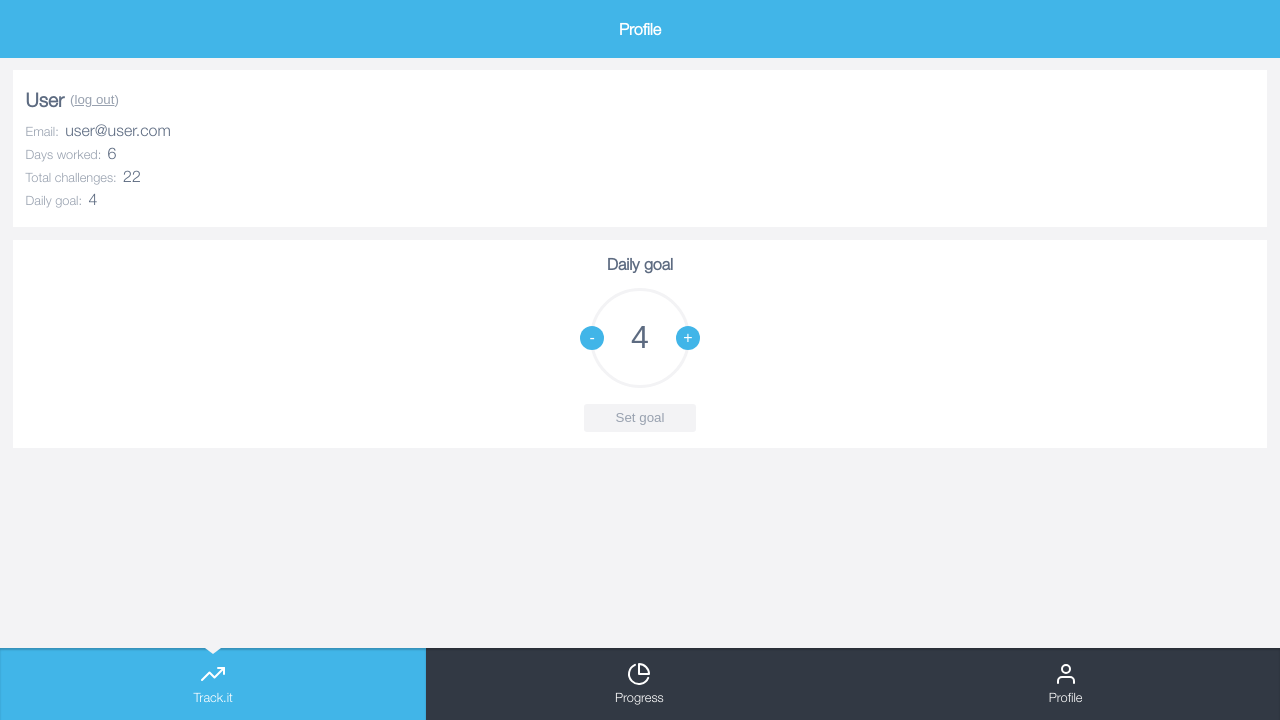
Progress Page › increases daily goal by pressing +
The width and height of the screenshot is (1280, 720).
Click the button "+".
click(688, 338)  # box [676,326,700,350]
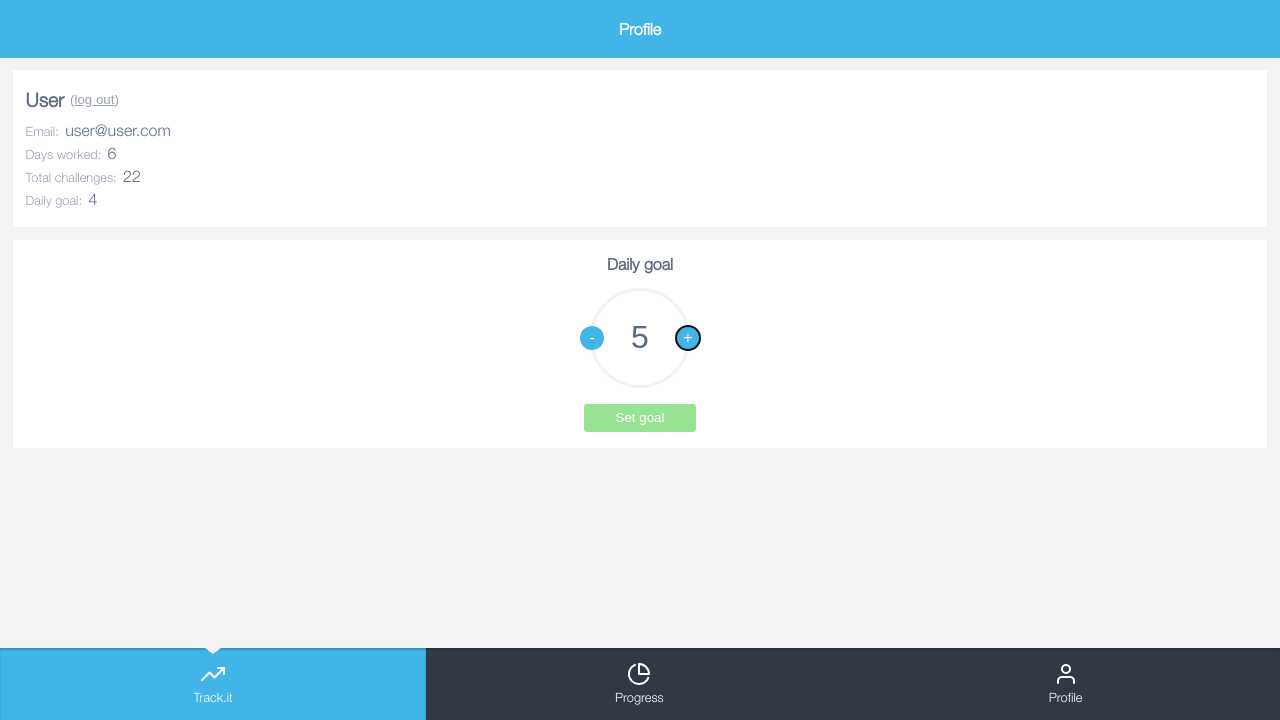
Click the button "+".
click(688, 338)  # box [676,326,700,350]
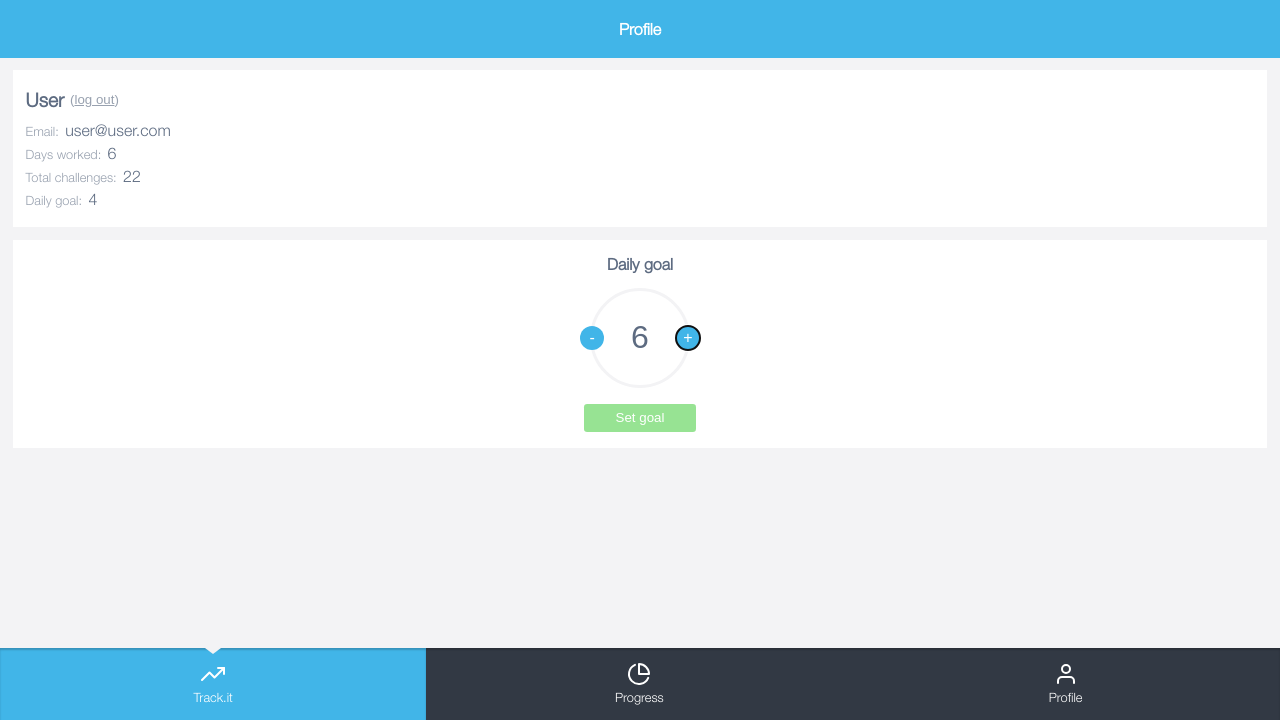
Click the button "+".
click(688, 338)  # box [676,326,700,350]
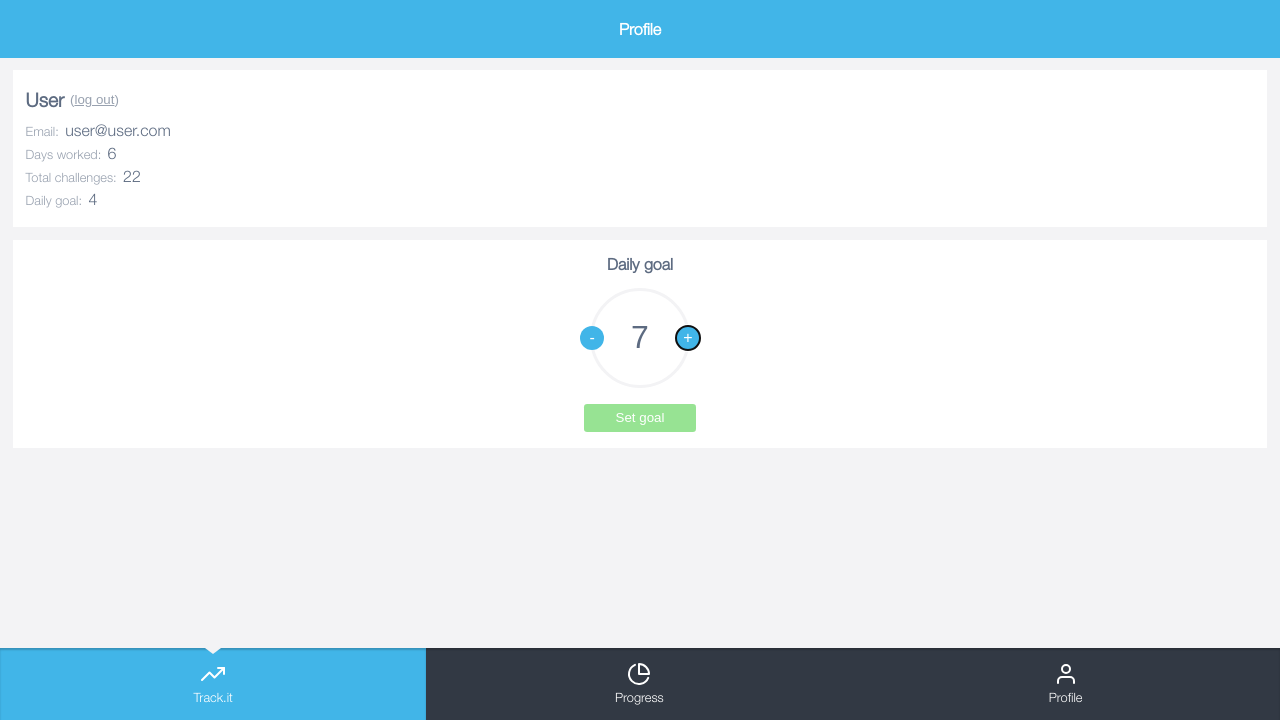
Result: the button "Set goal" is enabled at [584,404,696,432]
Result: the number field showing "7" is shown at [614,313,666,363]
